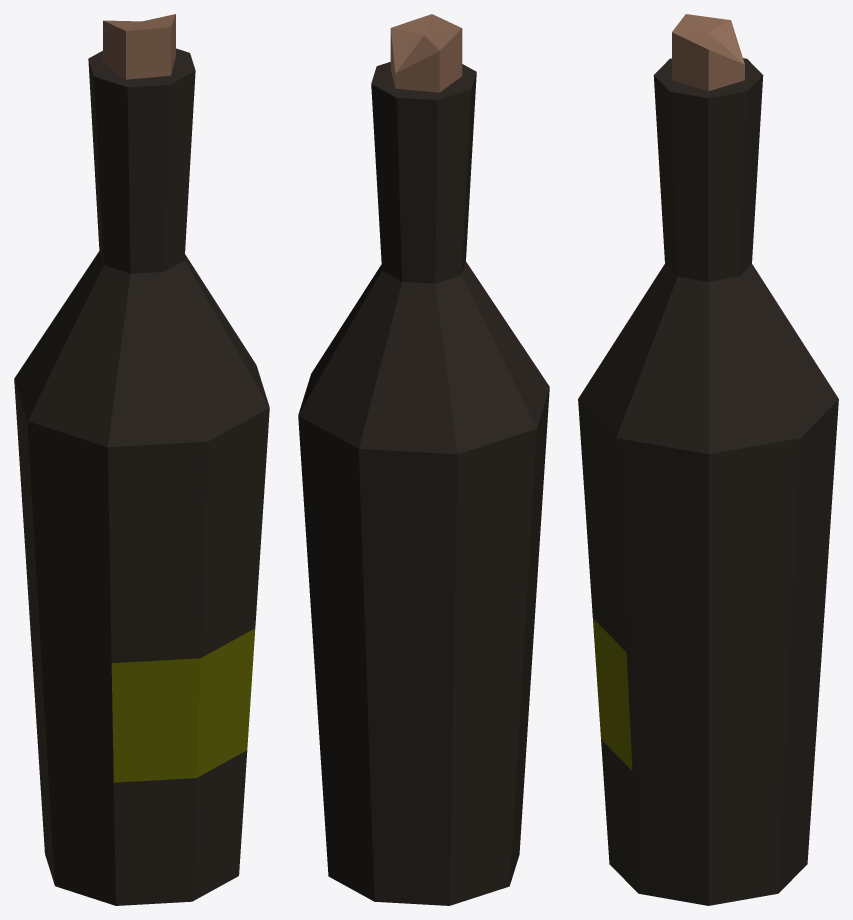
The model's file is Bottle_3.fbx.
The picture shows the model from 3 angles, left to right: view 1: azimuth 30°, elevation 25°; view 2: azimuth 150°, elevation 25°; view 3: azimuth 270°, elevation 25°; orthographic projection.
Visible parts, largest first — view 1: pCylinder170; view 2: pCylinder170; view 3: pCylinder170.
Boxes of the visible parts, x1=… form: pCylinder170: x1=14, y1=14, x2=269, y2=905; pCylinder170: x1=298, y1=14, x2=549, y2=905; pCylinder170: x1=578, y1=14, x2=838, y2=905.
Bounding box in the file's own units: 16.35 × 57.88 × 16.35.
